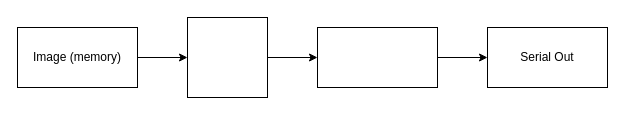
Some shapes in this 625 by 115 pixel diagram are drawn without their labels. The centre of each missing label's shape, as x and y in pixels:
"Canny + Hough (PS)" goes at (x=377, y=57).
"Sobel_X & Sobel_Y (PL)" goes at (x=227, y=57).
